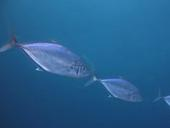Carangidae -Jacks-: (0, 15, 91, 78), (82, 65, 142, 102), (149, 83, 170, 113)
